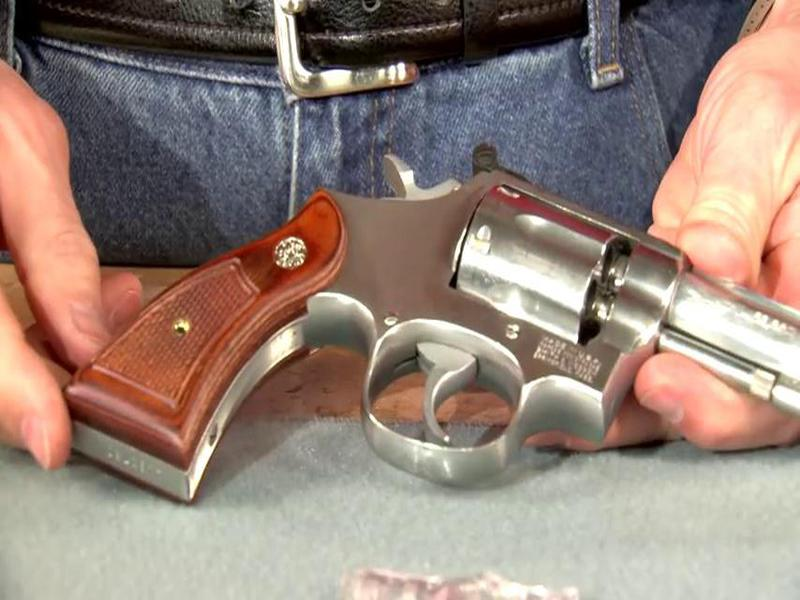Revolver: (72, 153, 796, 527)
